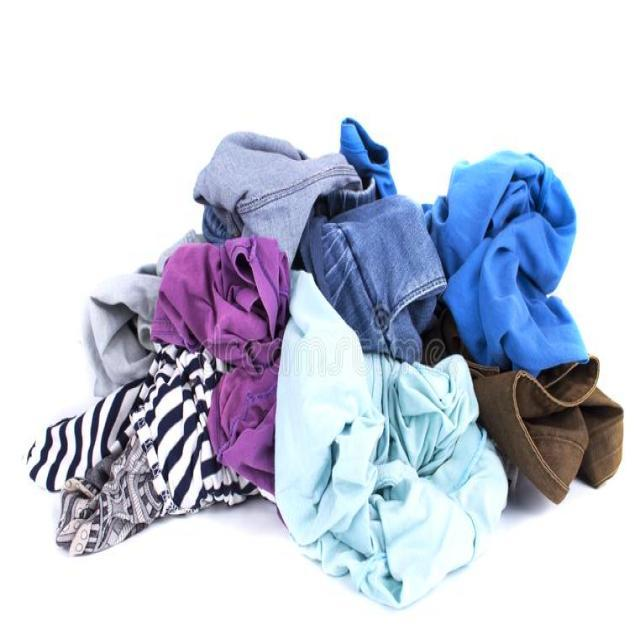clothes: (196, 185, 635, 611)
